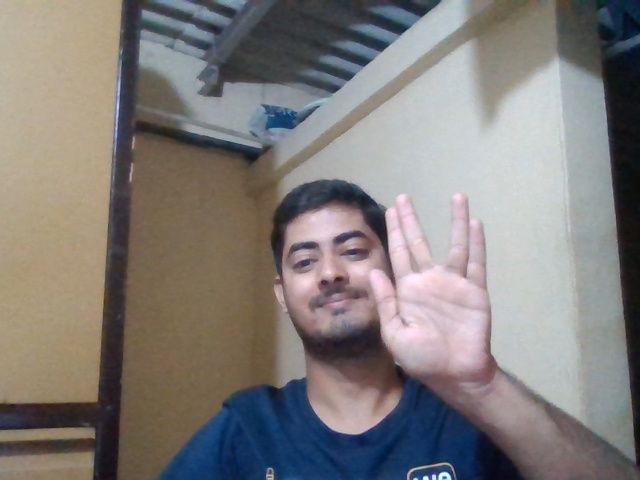LiveLong: (369, 192, 490, 380)
